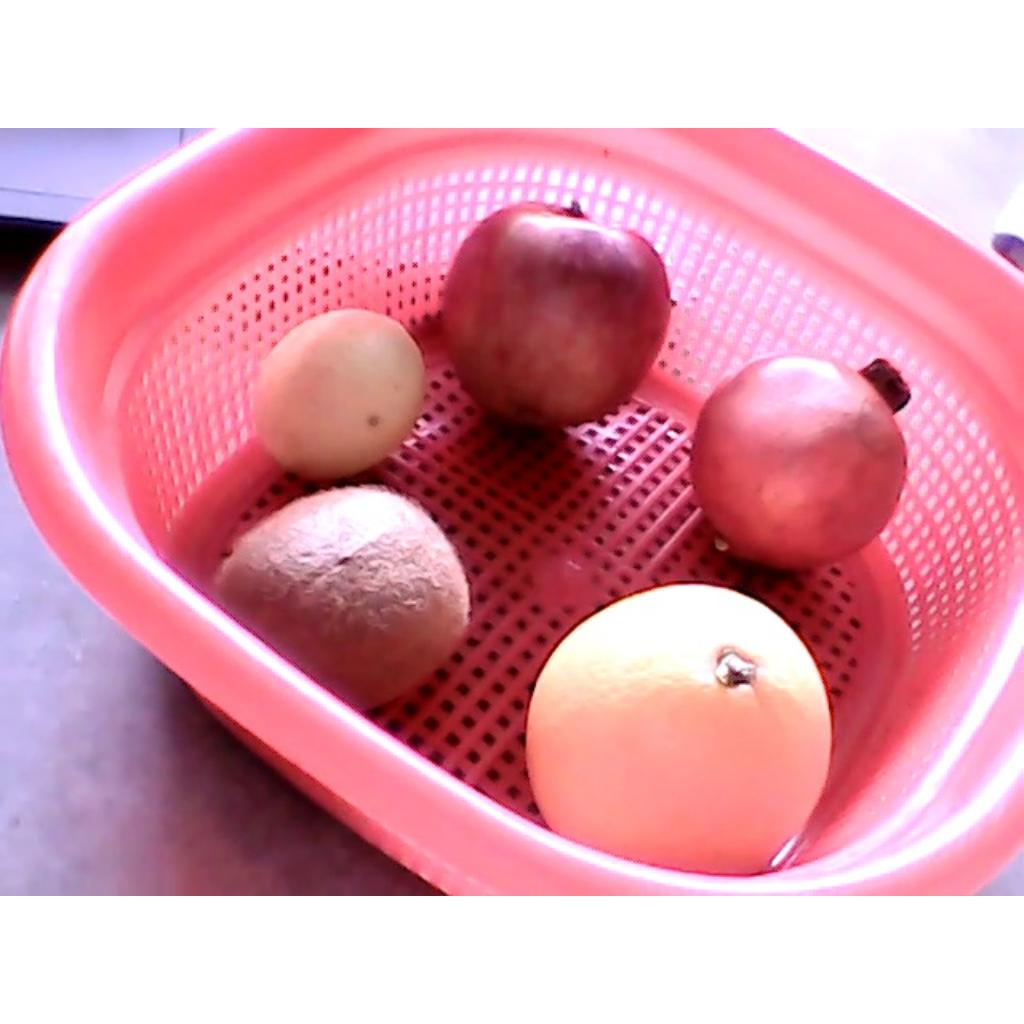apple: (443, 200, 673, 430)
kiwi: (215, 485, 468, 712)
lemon: (255, 310, 427, 480)
orange: (525, 585, 832, 878)
pomegranate: (688, 354, 913, 572)
